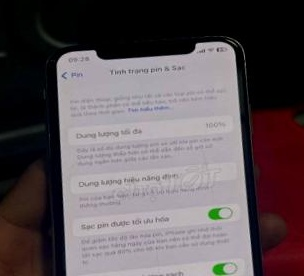scratch: (46, 53, 64, 69)
